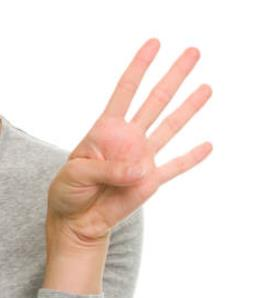right: (48, 33, 216, 233)
